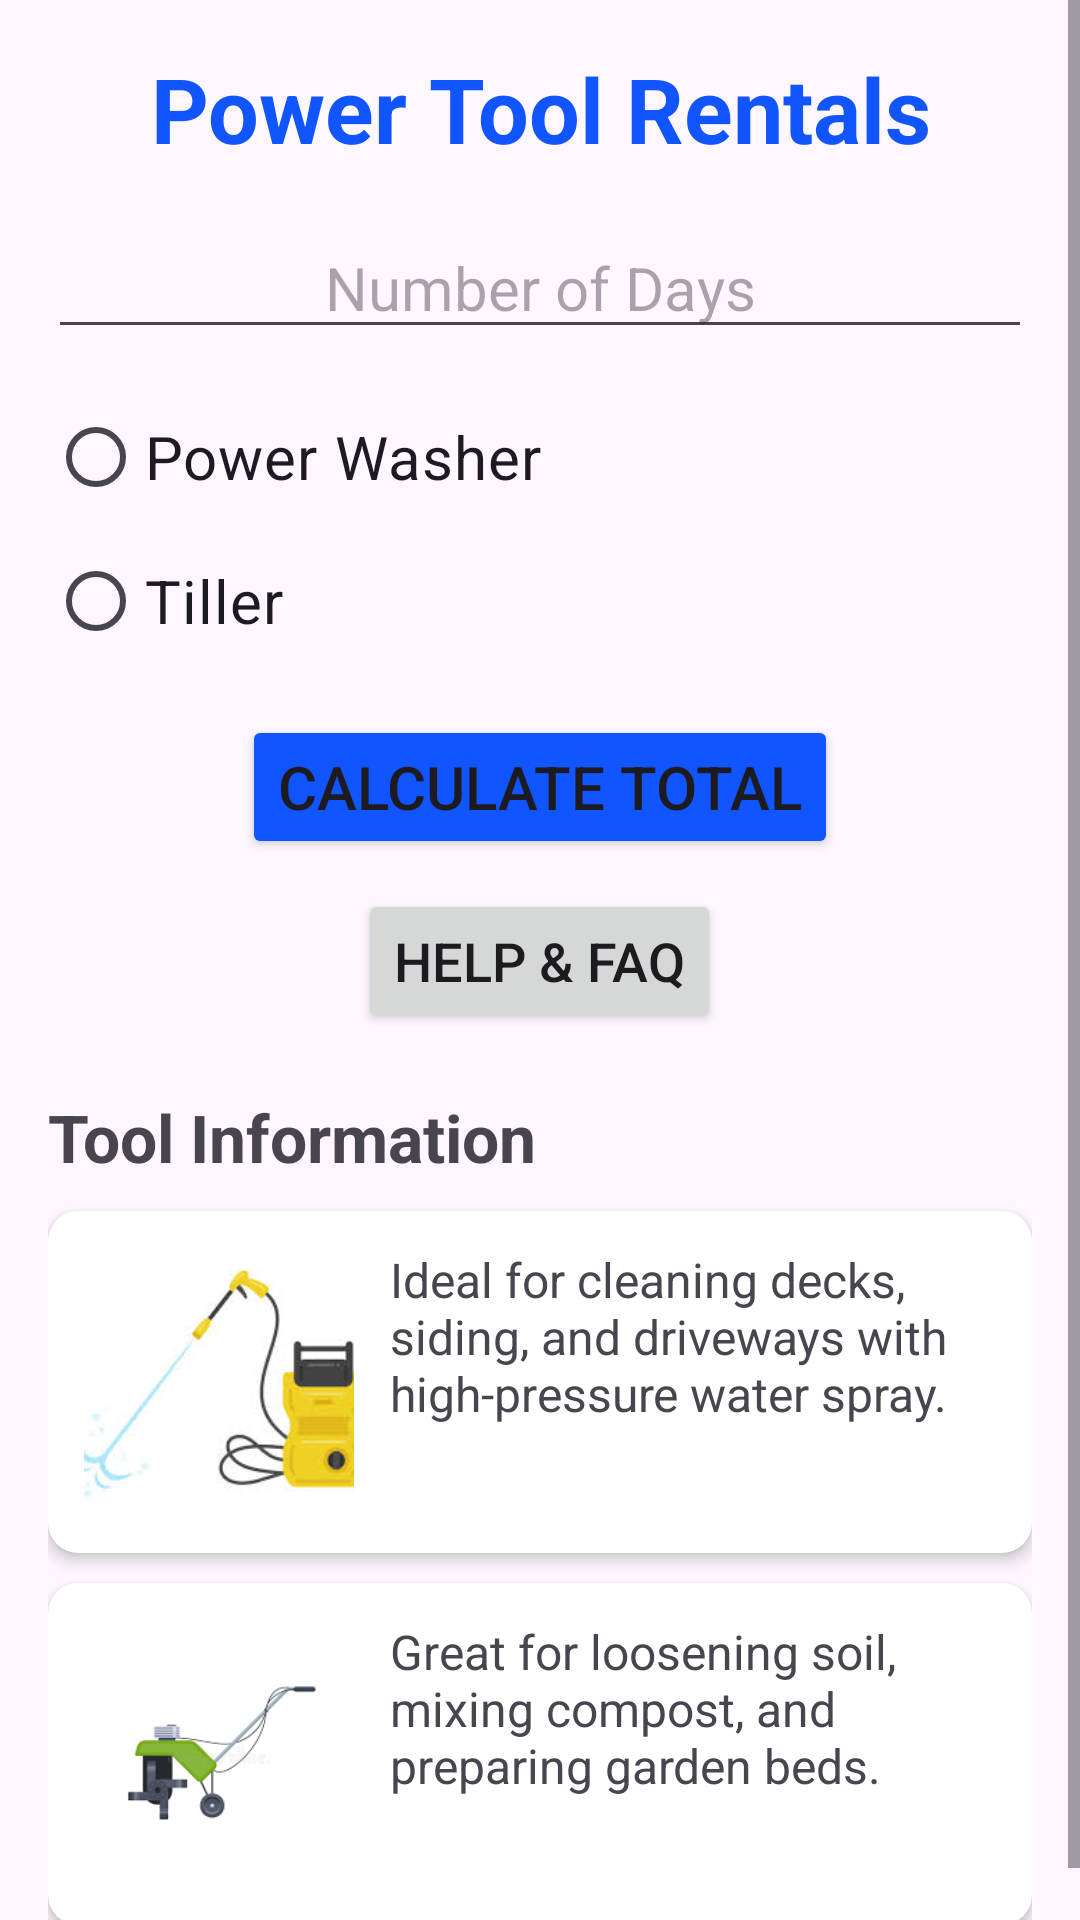

Icon bounding boxes for this 1080px x 1920px phone screenshot, format (x1, y1, x2, y2):
Power washer image: (84, 1269, 354, 1496)
Tiller image: (128, 1686, 316, 1820)
